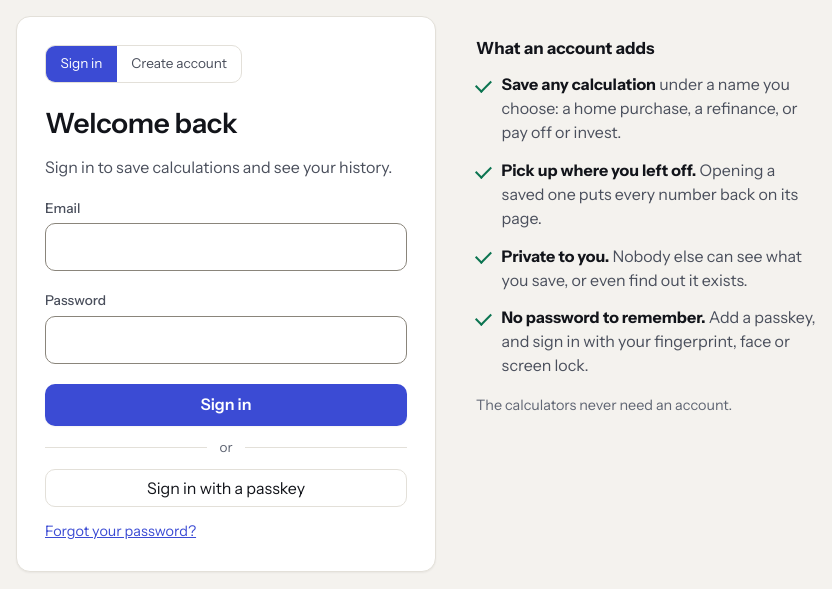
Test case: SignInPageComponent › can send the confirmation link again
Step 1. Click the button "Create account" → [179, 64], box [117, 46, 241, 82]
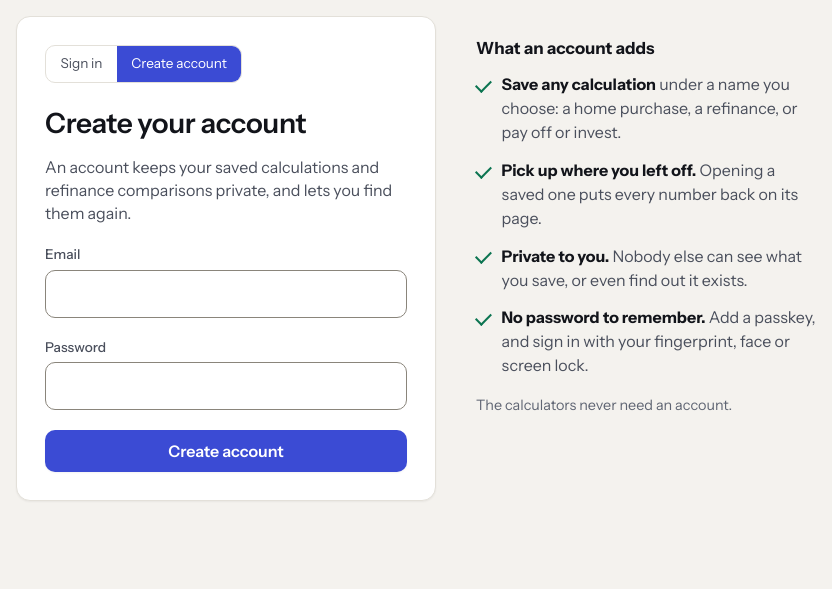
Step 2. Type "bob@example.com" into the field labelled "Email" → [226, 294], box [45, 270, 407, 318]
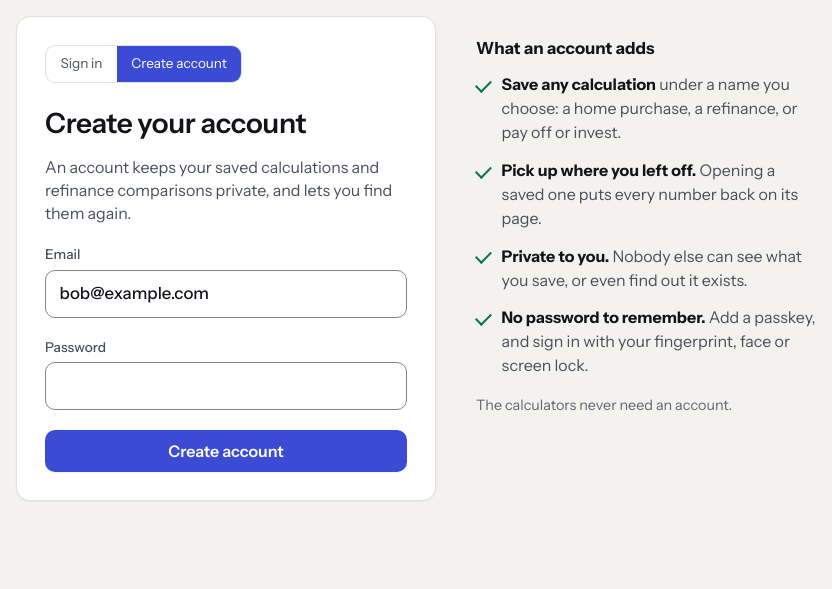
Step 3. Type "correct-horse-1" into the password field labelled "Password" → [226, 386], box [45, 362, 407, 410]
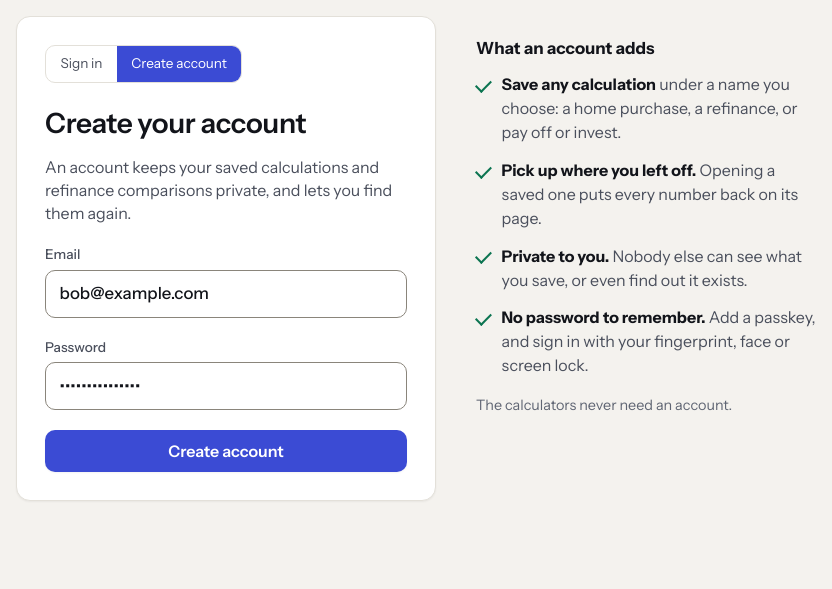
Step 4. Submit the form, box [45, 245, 407, 472]
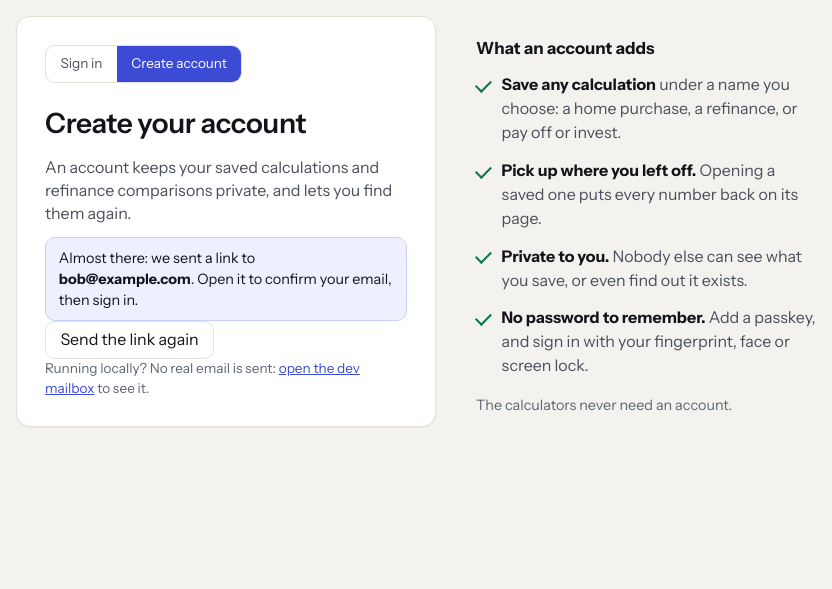
Step 5. Click the button "Send the link again" → [130, 340], box [45, 321, 214, 359]
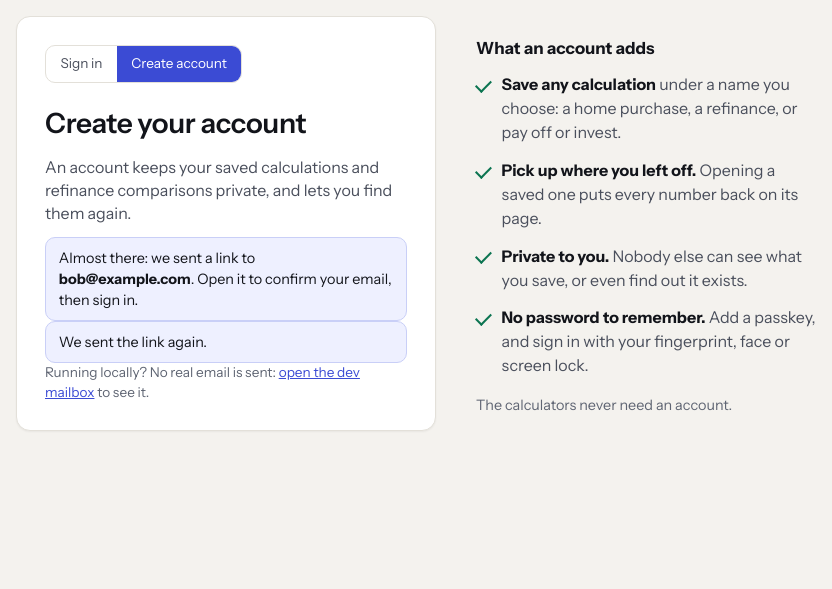
Result: the message "We sent the link again." is shown at [45, 321, 407, 363]
